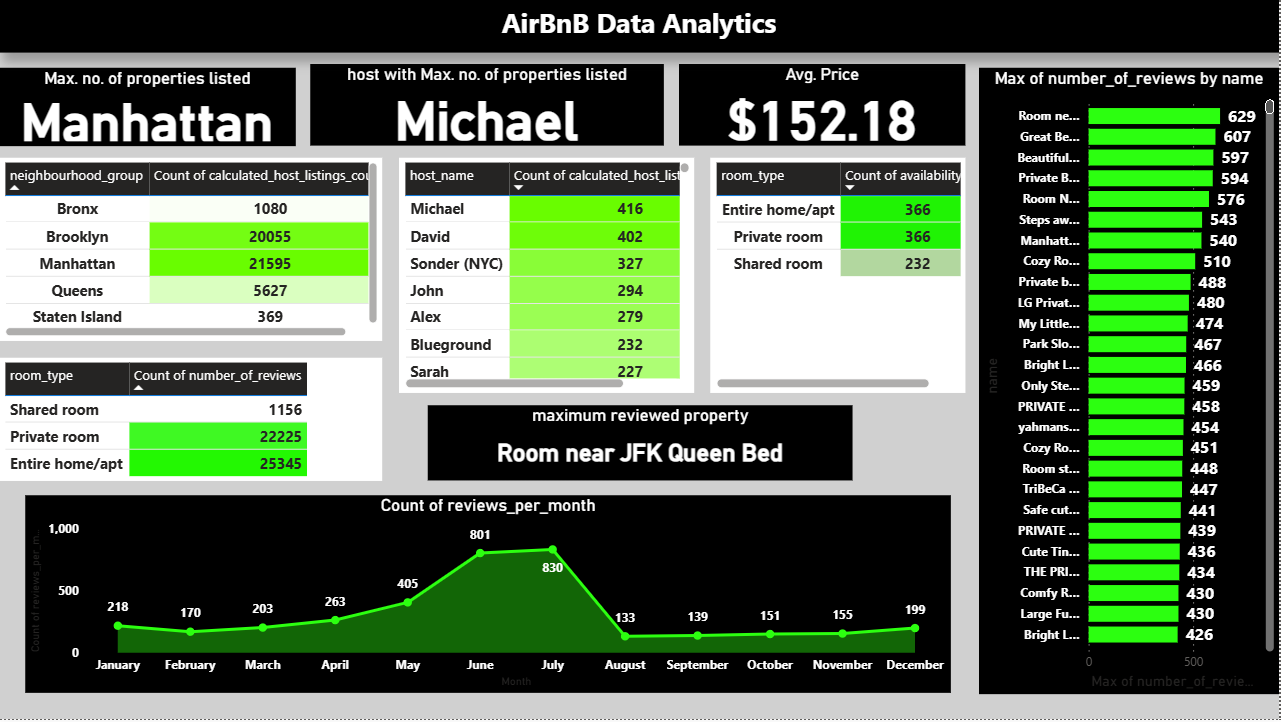

The dashboard page shown, as its layout file describes it:
{"tool":"powerbi","page":{"name":"Overview","canvas":[1280,720],"ordinal":0},"visuals":[{"type":"card","title":"Max. no. of properties listed","fields":{"Values":["Min(AB_NYC_2019.neighbourhood_group)"]},"box":[0,68.3,296.7,78.3],"z":0},{"type":"card","title":"host with Max. no. of properties listed","fields":{"Values":["Min(AB_NYC_2019.host_name)"]},"box":[311.7,65,353.3,81.7],"z":1000},{"type":"tableEx","fields":{"Values":["AB_NYC_2019.neighbourhood_group","CountNonNull(AB_NYC_2019.calculated_host_listings_count)"]},"box":[0,158.3,383.3,183.3],"z":2000},{"type":"tableEx","fields":{"Values":["AB_NYC_2019.host_name","CountNonNull(AB_NYC_2019.calculated_host_listings_count)"]},"box":[400,158.3,295,235],"z":3000},{"type":"card","title":"Avg. Price","fields":{"Values":["Avg(AB_NYC_2019.price)"]},"box":[680,65,286.7,81.7],"z":4000},{"type":"tableEx","fields":{"Values":["AB_NYC_2019.room_type","CountNonNull(AB_NYC_2019.number_of_reviews)"]},"box":[0,358.3,383.3,123.3],"z":5000},{"type":"tableEx","fields":{"Values":["AB_NYC_2019.room_type","Count(AB_NYC_2019.availability_365)"]},"box":[711.7,158.3,255,235],"z":6000},{"type":"card","title":"maximum reviewed property","fields":{"Values":["Min(AB_NYC_2019.name)"]},"box":[428.3,406.7,425,75],"z":7000},{"type":"areaChart","title":"Count of reviews_per_month","fields":{"Y":["Count(AB_NYC_2019.reviews_per_month)"],"Category":["AB_NYC_2019.last_review.Variation.Date Hierarchy.Month"]},"box":[26.1,496.5,926,197.6],"z":8000},{"type":"barChart","fields":{"Category":["AB_NYC_2019.name"],"Y":["Max(AB_NYC_2019.number_of_reviews)"]},"box":[980,68.3,300,626.7],"z":8001},{"type":"textbox","box":[0,0,1280,53.3],"z":8002}]}

Visuals, with their boxes in screenshot pixels (x1, y1, x2, y2), scaled from the page's 1280x720 canvas onto the 1281x722 screenshot:
"Max. no. of properties listed" card: <bbox>0, 68, 297, 147</bbox>
"host with Max. no. of properties listed" card: <bbox>312, 65, 666, 147</bbox>
tableEx - AB_NYC_2019.neighbourhood_group x CountNonNull(AB_NYC_2019.calculated_host_listings_count): <bbox>0, 159, 384, 343</bbox>
tableEx - AB_NYC_2019.host_name x CountNonNull(AB_NYC_2019.calculated_host_listings_count): <bbox>400, 159, 696, 394</bbox>
"Avg. Price" card: <bbox>681, 65, 967, 147</bbox>
tableEx - AB_NYC_2019.room_type x CountNonNull(AB_NYC_2019.number_of_reviews): <bbox>0, 359, 384, 483</bbox>
tableEx - AB_NYC_2019.room_type x Count(AB_NYC_2019.availability_365): <bbox>712, 159, 967, 394</bbox>
"maximum reviewed property" card: <bbox>429, 408, 854, 483</bbox>
"Count of reviews_per_month" areaChart: <bbox>26, 498, 953, 696</bbox>
barChart - AB_NYC_2019.name x Max(AB_NYC_2019.number_of_reviews): <bbox>981, 68, 1280, 697</bbox>
textbox: <bbox>0, 0, 1280, 53</bbox>
